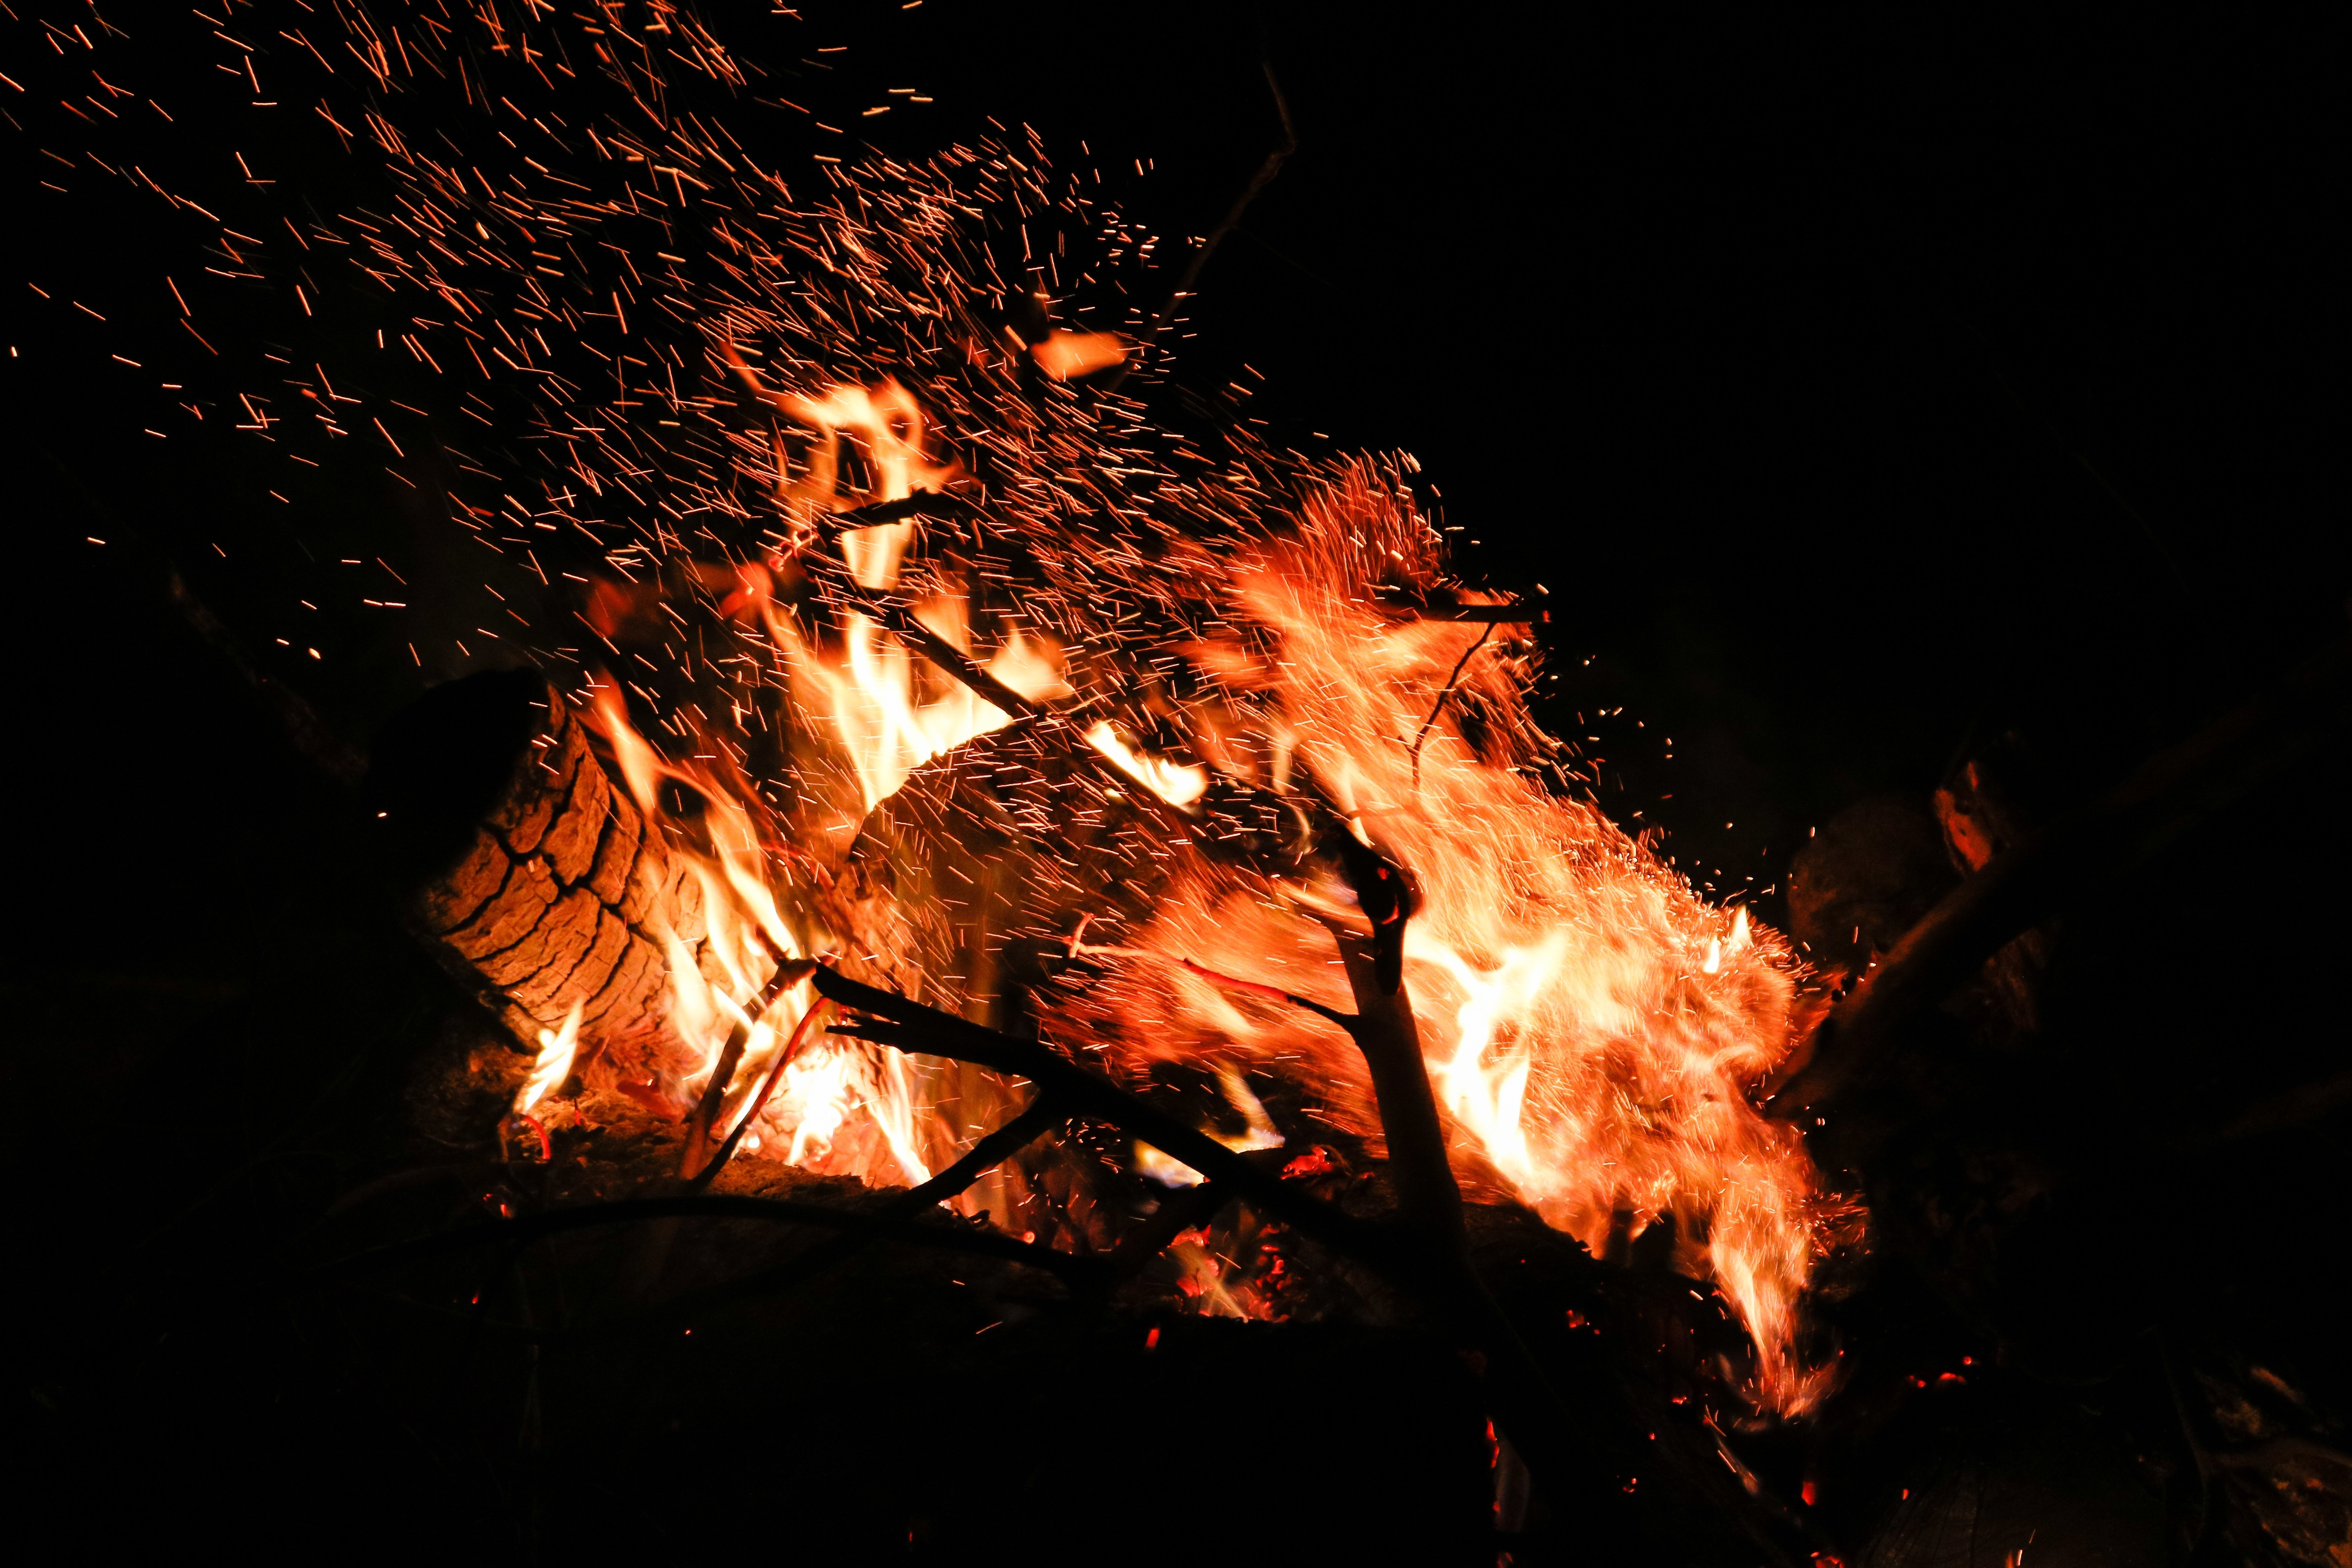fire: (516, 297, 1923, 1306)
